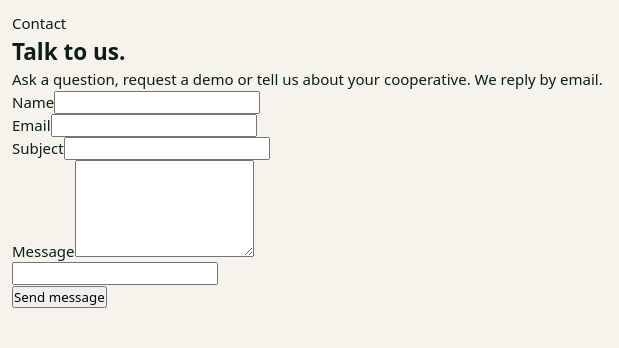
Contact form › explains a rate limit
Type "Aline" into the field labelled "Name".
click(157, 102); type("Aline")  # box x1=54 y1=91 x2=260 y2=114
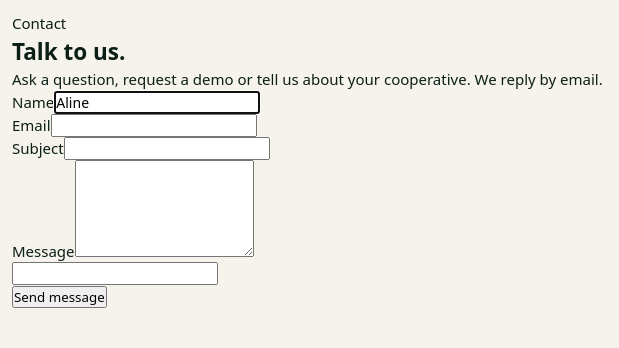
Type "aline+test@example.rw" into the field labelled "Email".
click(154, 125); type("aline+test@example.rw")  # box x1=50 y1=114 x2=256 y2=137
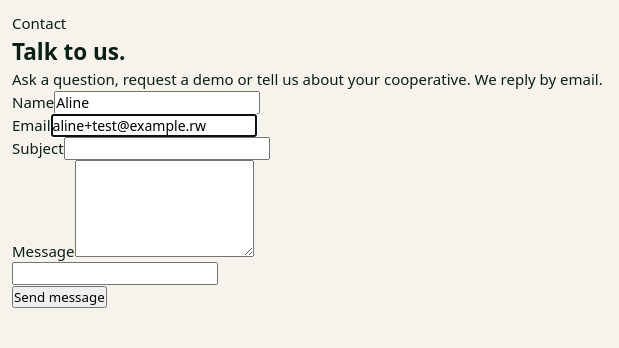
Type "Cooperative setup" into the field labelled "Subject".
click(167, 148); type("Cooperative setup")  # box x1=64 y1=137 x2=270 y2=160
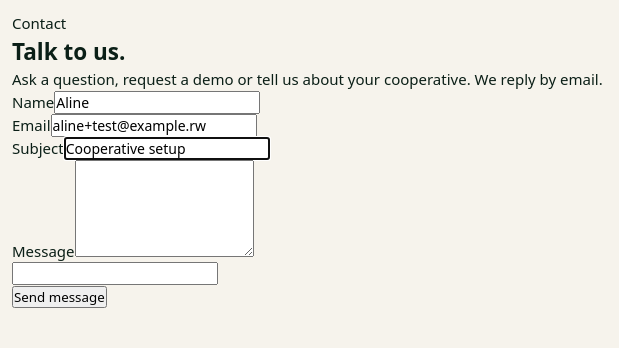
Type "We would like to start with twelve farmers." into the text box labelled "Message".
click(164, 208); type("We would like to start with twelve farmers.")  # box x1=74 y1=160 x2=254 y2=257
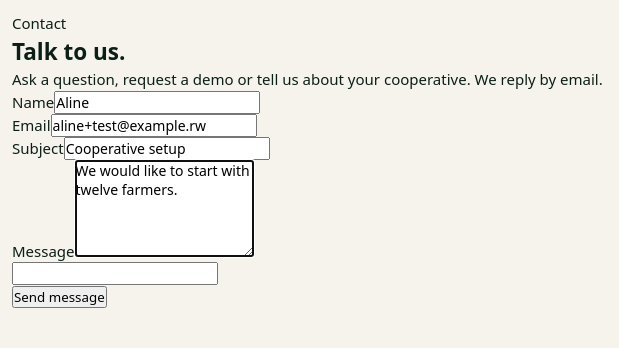
Click the button "Send message".
click(59, 297)  # box x1=12 y1=286 x2=107 y2=308
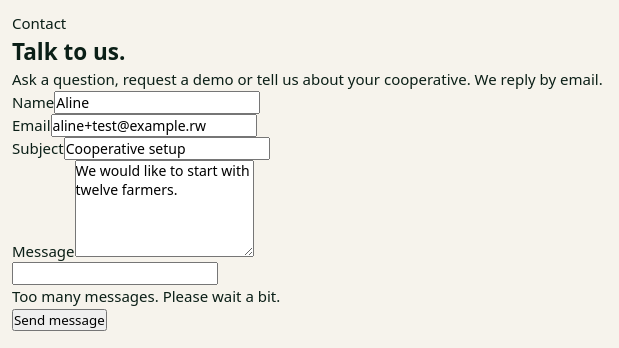
Check: the button "Send message" is enabled, box x1=12 y1=309 x2=107 y2=331
Check: the message reads "Too many messages. Please wait a bit.", box x1=12 y1=286 x2=280 y2=306
